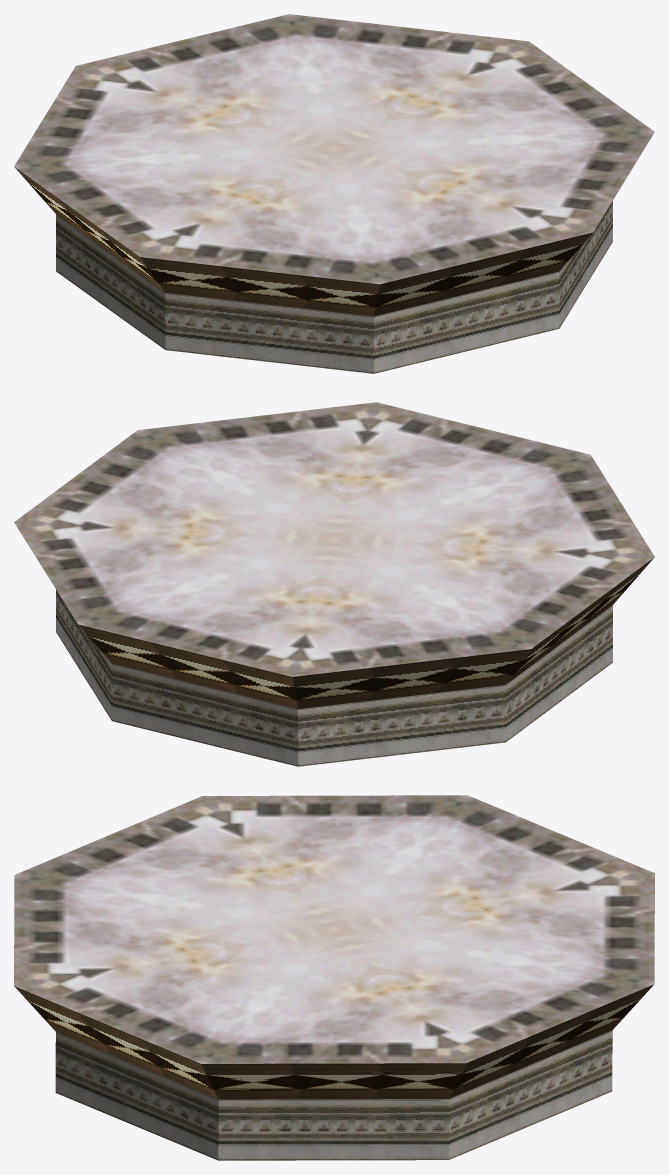
File: FloatingPad.obj
The picture shows the model from 3 angles, top to bottom: view 1: azimuth 30°, elevation 25°; view 2: azimuth 150°, elevation 25°; view 3: azimuth 270°, elevation 25°; orthographic projection. The views are drawn at different scales.
Bounding box in the file's own units: 54.75 × 14.13 × 55.17.
Materials: 3 (3 with a texture image).
